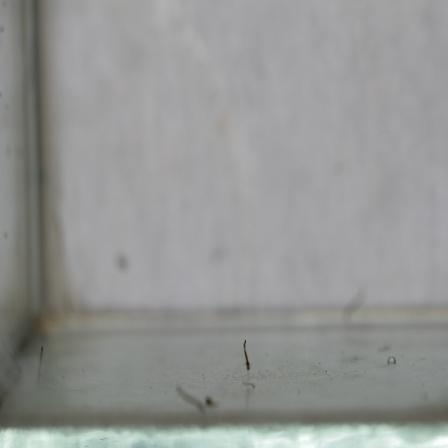Jentik-Nyamuk: (239, 338, 254, 372)
